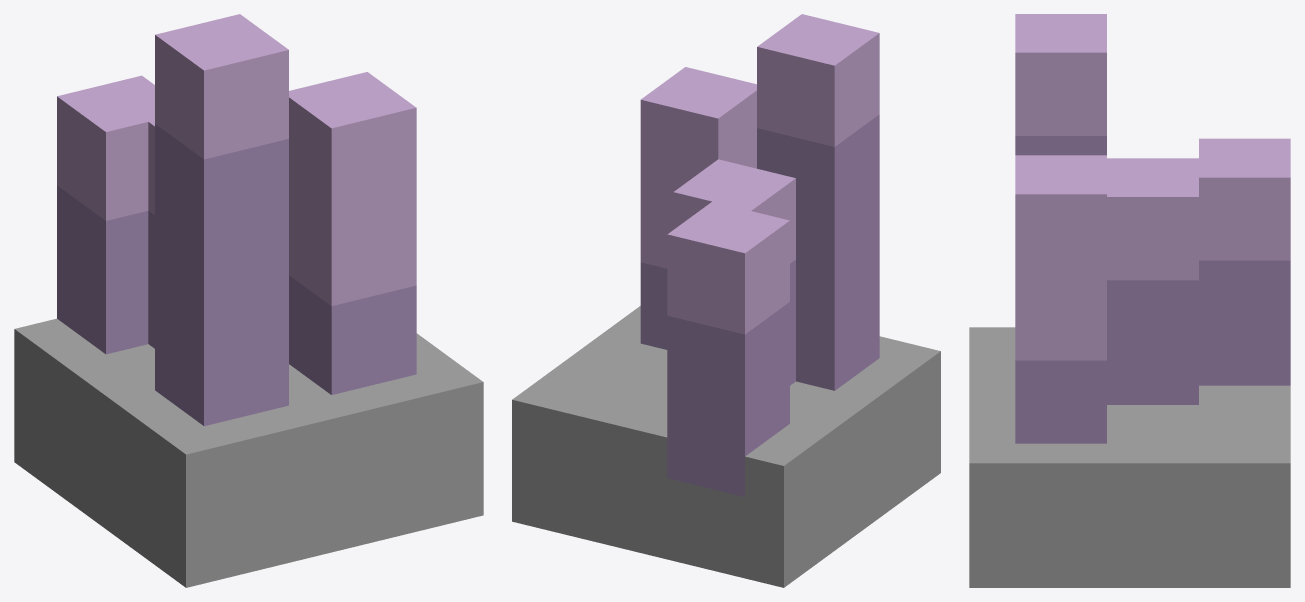
Rendered from amatista_01.glb.
The picture shows the model from 3 angles, left to right: view 1: azimuth 30°, elevation 25°; view 2: azimuth 150°, elevation 25°; view 3: azimuth 270°, elevation 25°; orthographic projection. The views are drawn at different scales.
Parts seen in each view (by area): view 1: amatista_01; view 2: amatista_01; view 3: amatista_01.
Part boxes in pixels (left/top/right/bottom): amatista_01: left=14, top=14, right=483, bottom=587; amatista_01: left=512, top=14, right=940, bottom=587; amatista_01: left=969, top=14, right=1290, bottom=587.
Bounding box in the file's own units: 0.7 × 1.1 × 0.7.
